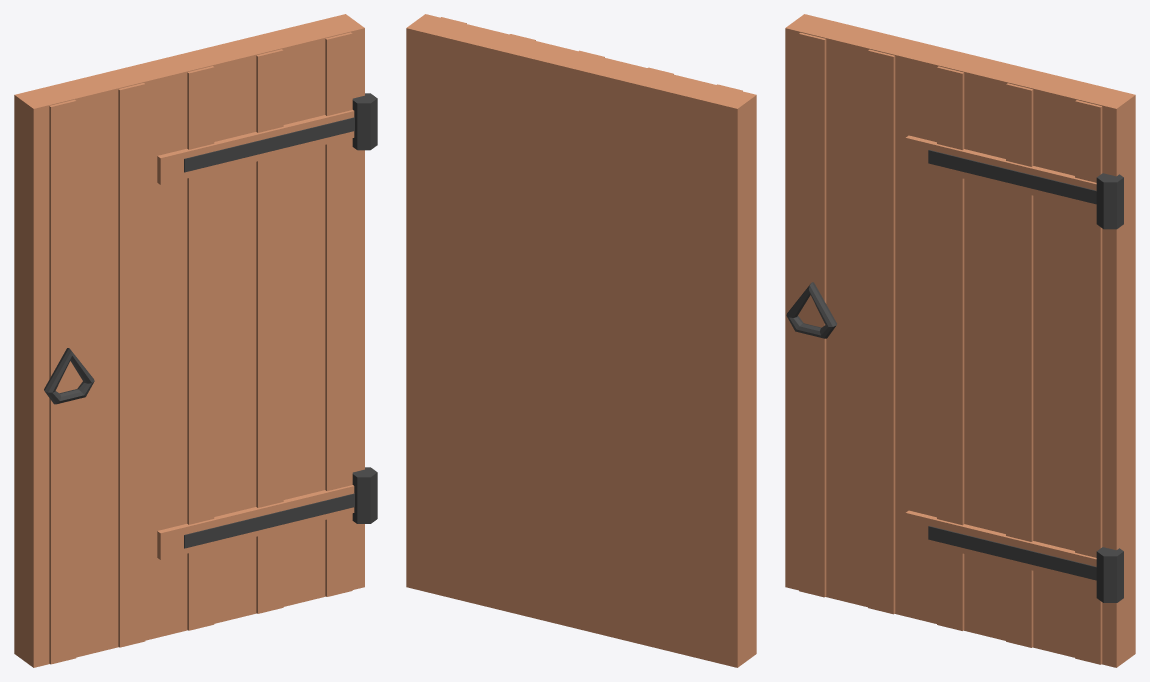
File: Door2.fbx
The picture shows the model from 3 angles, left to right: view 1: azimuth 30°, elevation 25°; view 2: azimuth 150°, elevation 25°; view 3: azimuth 330°, elevation 25°; orthographic projection.
Parts seen in each view (by area): view 1: Door2_low, Door2_woodframe_low, Door2_woodrame3_low, Door2_woodframe2_low, Door2_metalframe_low, Door2_metalframe2_low, Door2_hinge_low, Door2_hinge2_low, Door2_handle_low; view 2: Door2_low; view 3: Door2_low, Door2_woodframe_low, Door2_woodframe2_low, Door2_woodrame3_low, Door2_metalframe2_low, Door2_metalframe_low, Door2_hinge_low, Door2_hinge2_low, Door2_handle_low.
Part boxes in pixels (<box>): Door2_low: <box>14,14,364,667</box>; Door2_woodframe_low: <box>49,32,352,664</box>; Door2_woodrame3_low: <box>157,485,354,559</box>; Door2_woodframe2_low: <box>157,110,354,184</box>; Door2_metalframe_low: <box>184,117,354,172</box>; Door2_metalframe2_low: <box>184,493,354,548</box>; Door2_hinge_low: <box>352,93,377,150</box>; Door2_hinge2_low: <box>352,467,377,523</box>; Door2_handle_low: <box>44,348,94,404</box>; Door2_low: <box>406,14,756,667</box>; Door2_low: <box>785,14,1135,667</box>; Door2_woodframe_low: <box>799,32,1102,664</box>; Door2_woodframe2_low: <box>905,135,1096,210</box>; Door2_woodrame3_low: <box>905,510,1096,585</box>; Door2_metalframe2_low: <box>928,526,1096,580</box>; Door2_metalframe_low: <box>928,150,1096,204</box>; Door2_hinge_low: <box>1096,173,1123,229</box>; Door2_hinge2_low: <box>1096,547,1123,602</box>; Door2_handle_low: <box>786,282,836,338</box>.
Size of the model in its own units: 204 by 322 by 29.94.
